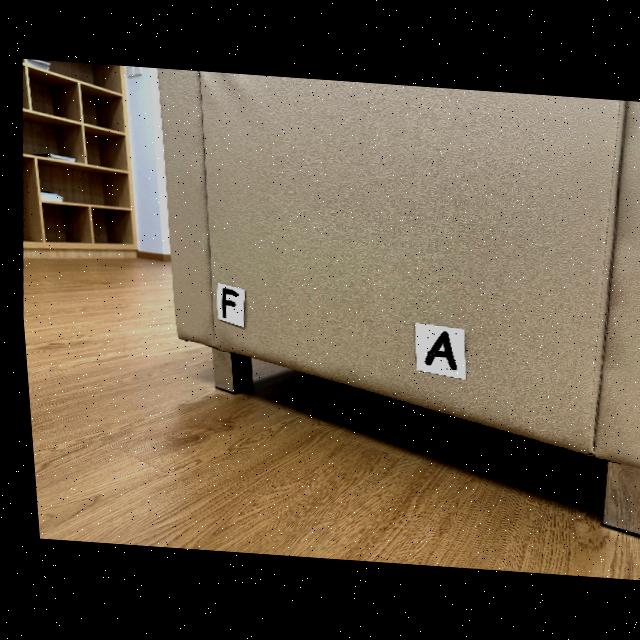A: (419, 332, 450, 371)
F: (217, 288, 233, 318)
